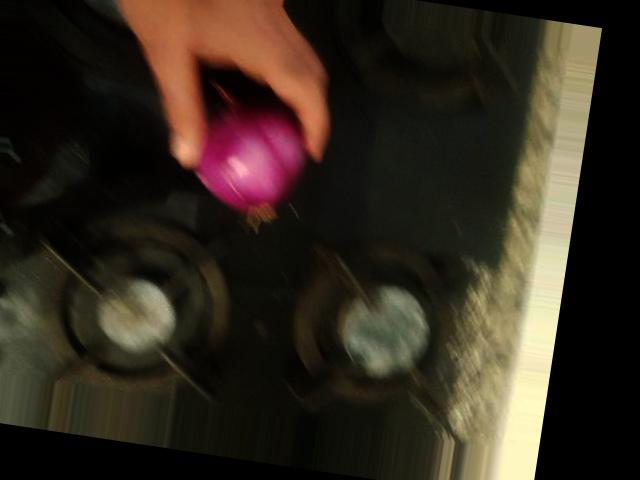onion: (185, 84, 321, 220)
